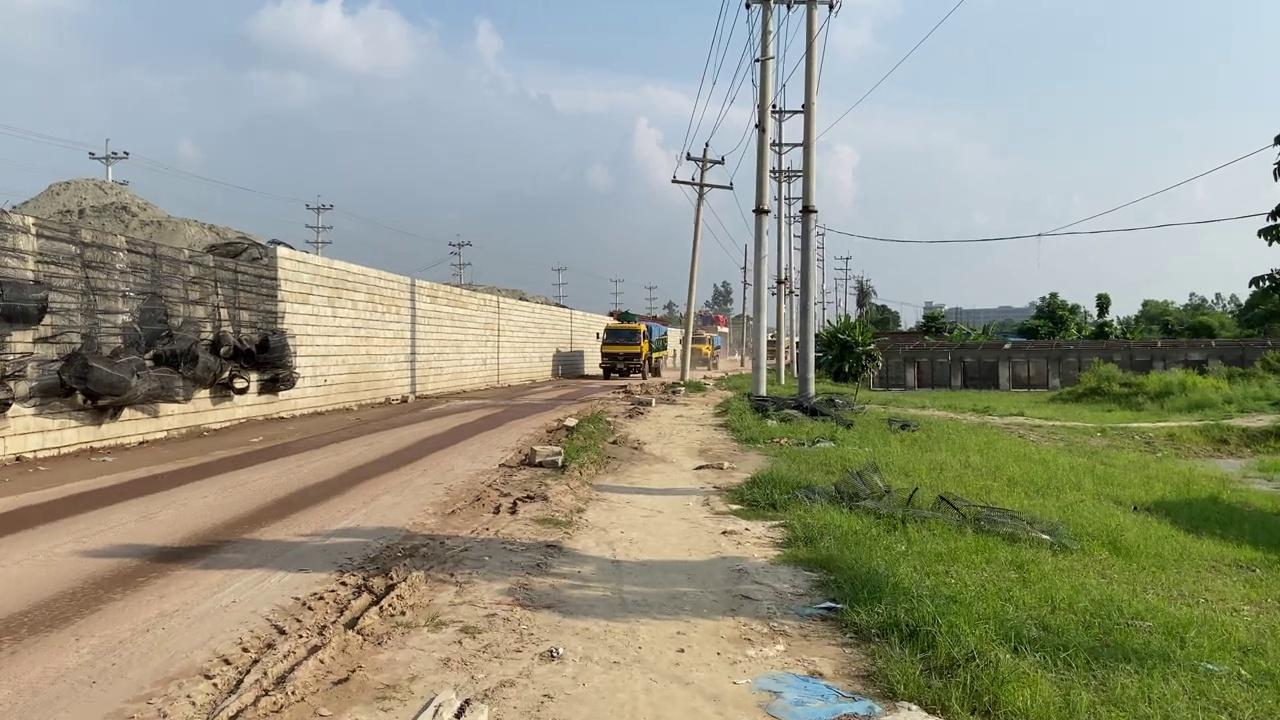Garbage: (749, 669, 883, 718)
Muddy road: (1, 360, 853, 718)
Pole: (670, 142, 733, 382), (748, 0, 775, 396), (796, 1, 819, 401)
Traffic-sign: (814, 312, 882, 384)
Tree: (595, 316, 668, 380), (677, 330, 721, 370), (766, 329, 798, 366), (696, 309, 728, 329)
Upstairs: (0, 182, 622, 460)
